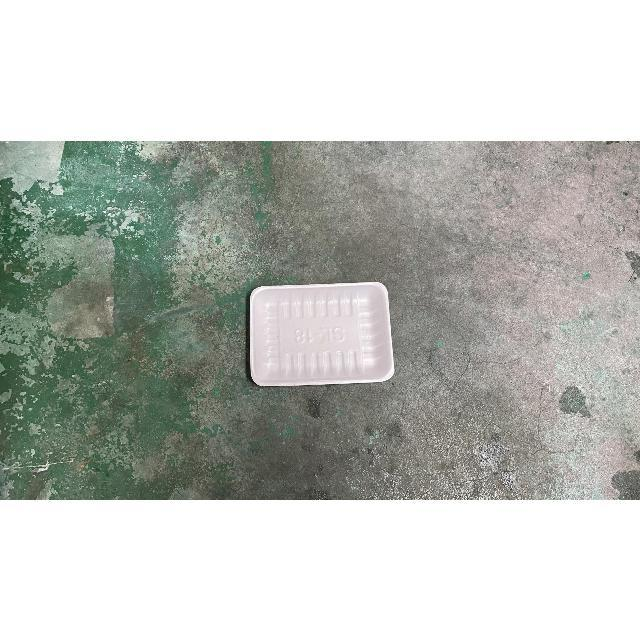Recipiente plastico: (251, 284, 394, 386)
